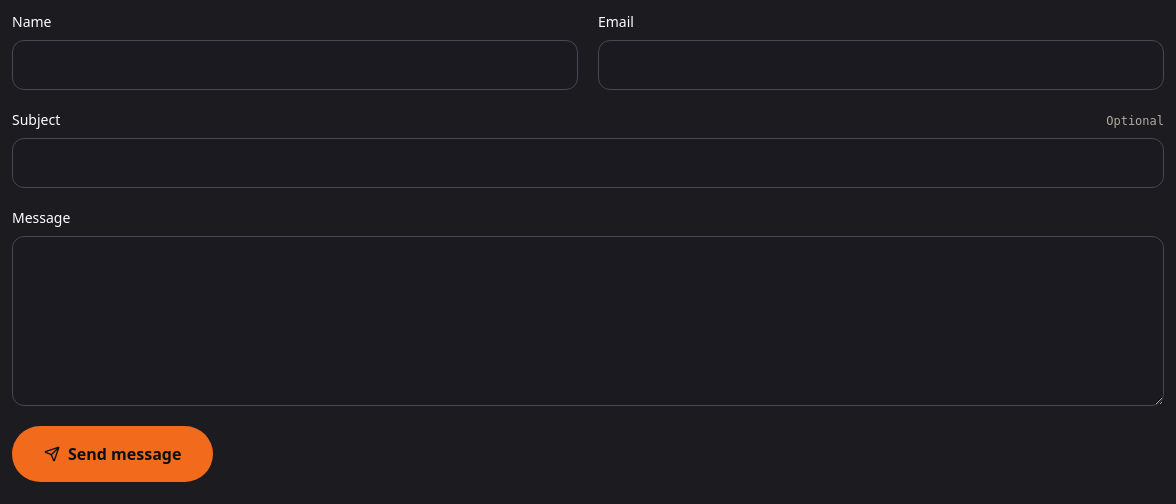
Test: ContactForm › tells a rate-limited visitor how long to wait
This screenshot has width=1176, height=504.
Type "Wanjiru Kamau" into the field labelled "Name" at (295, 65), box [12, 40, 578, 90]
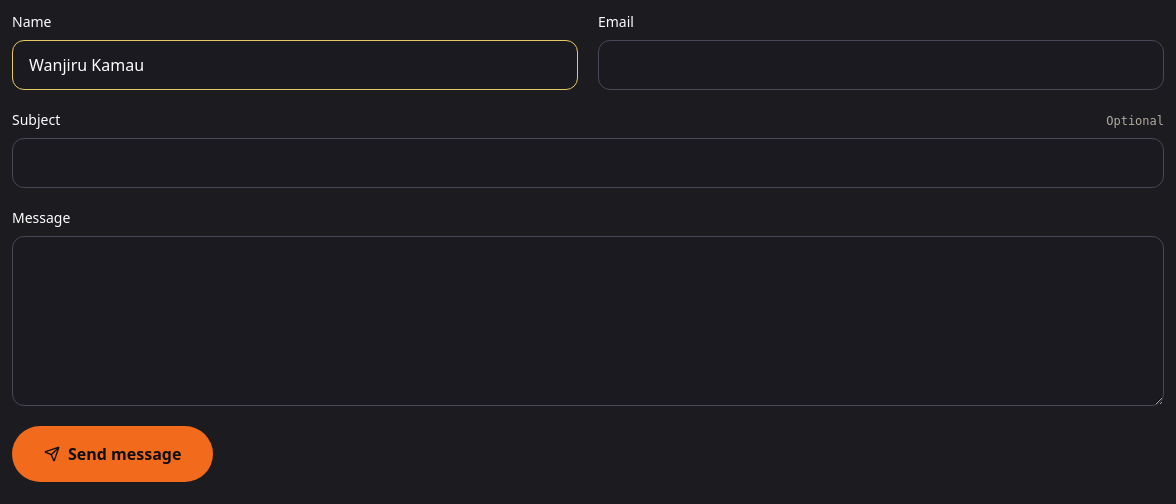
Type "wanjiru@example.com" into the field labelled "Email" at (881, 65), box [598, 40, 1164, 90]
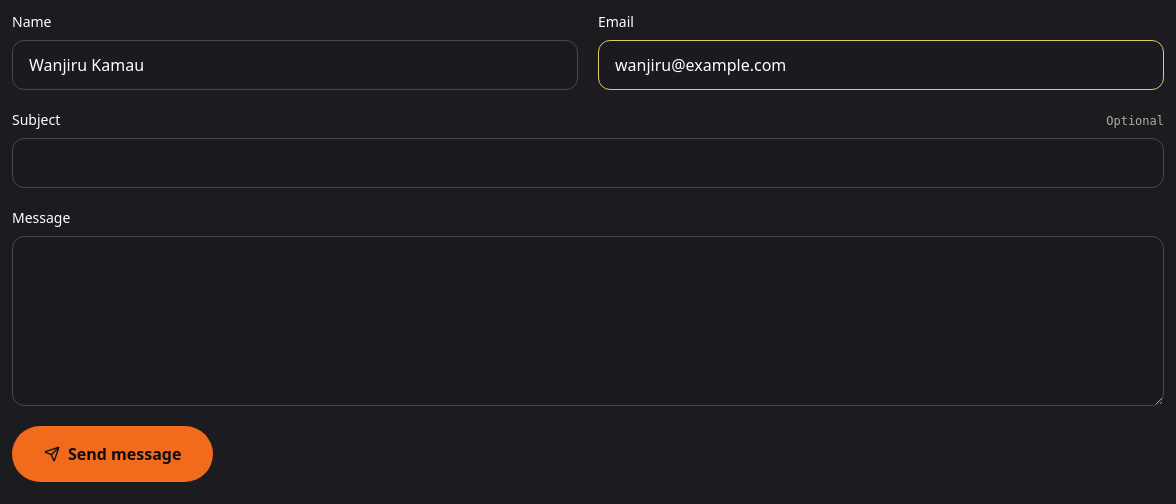
Type "Hello Vincent, we have a backend role for you." into the text box labelled "Message" at (588, 321), box [12, 236, 1164, 406]
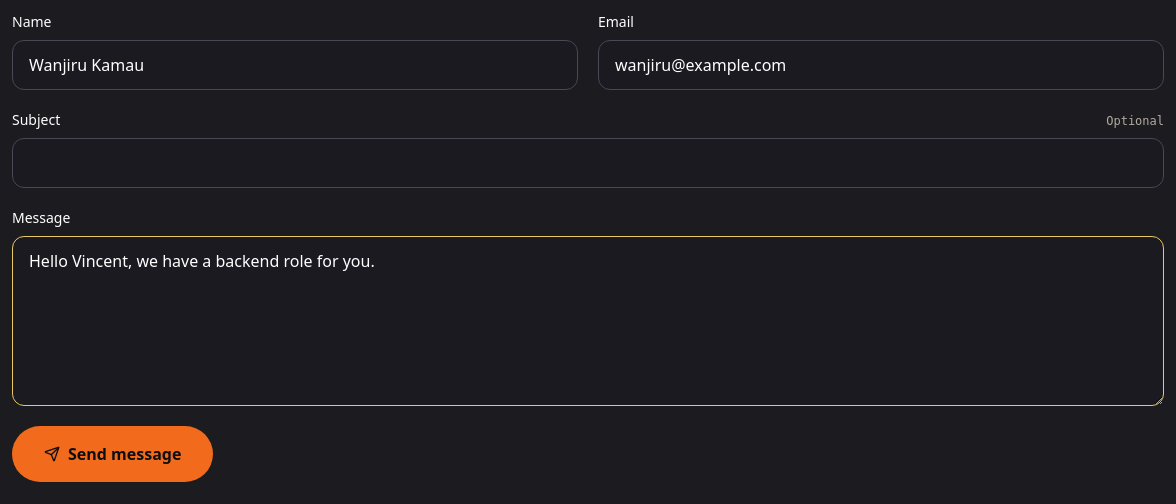
Click the button "Send message" at (113, 454), box [12, 426, 213, 482]
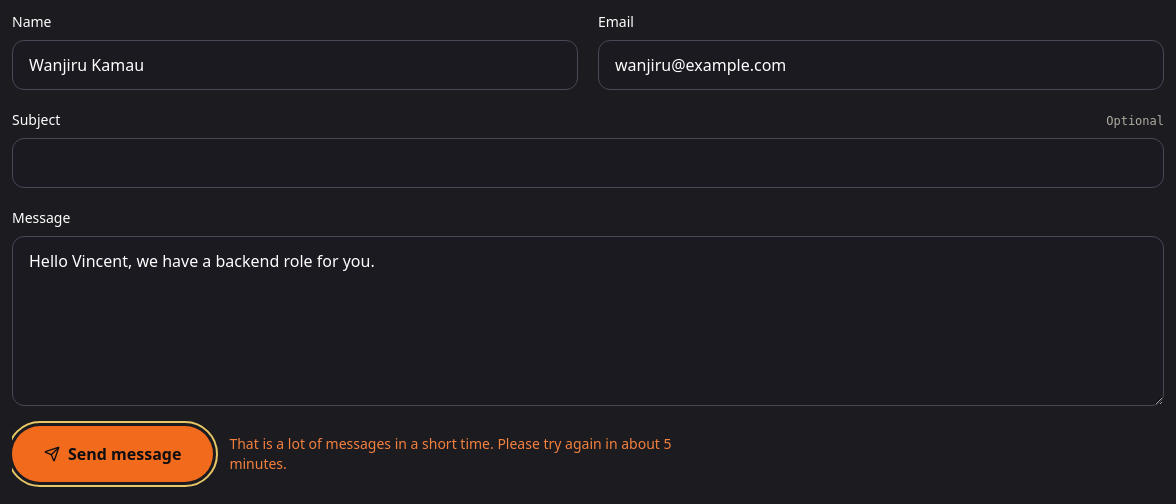
Result: the text "Please try again in about 5 minutes." is shown at [229, 434, 672, 473]
